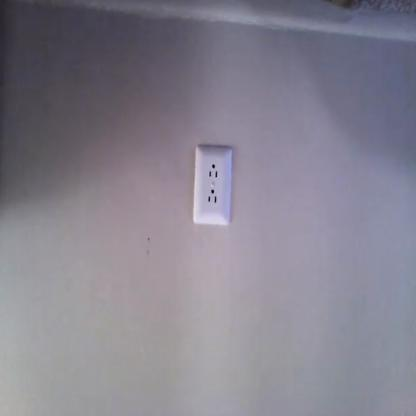OUTLET: (192, 144, 234, 226)
